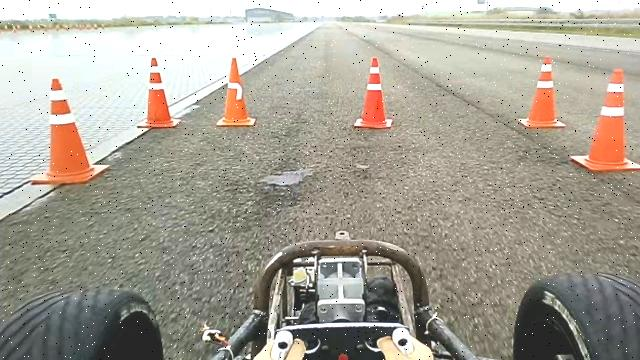red cone: (30, 76, 109, 184), (570, 68, 640, 172), (518, 55, 566, 128), (136, 56, 180, 129), (353, 56, 393, 129), (216, 56, 256, 127)
